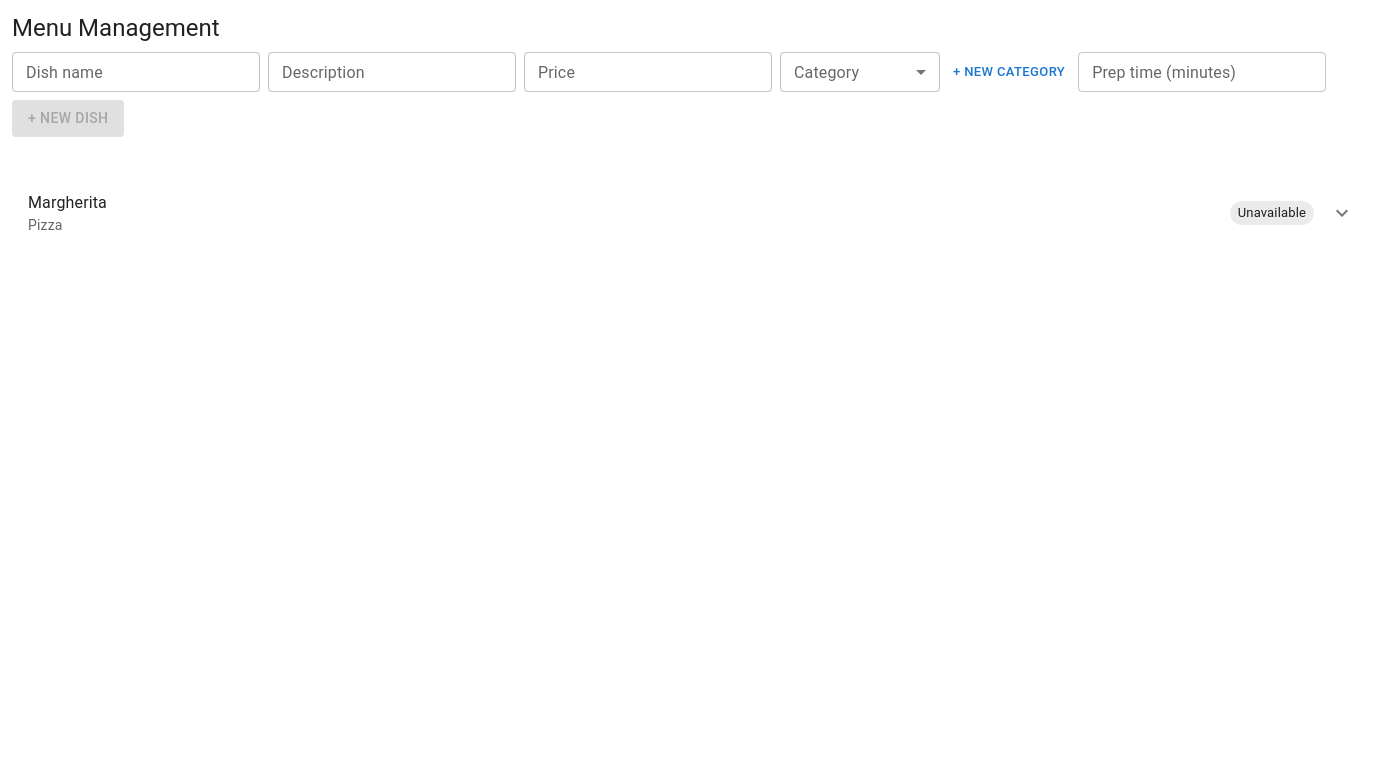
Test: MenuManagementPage › adding a dish's first recipe ingredient re-enables its availability toggle with no page reload
The width and height of the screenshot is (1378, 780).
Click the button named "Expand Margherita" at (1342, 213), box 1322,193 -> 1362,233
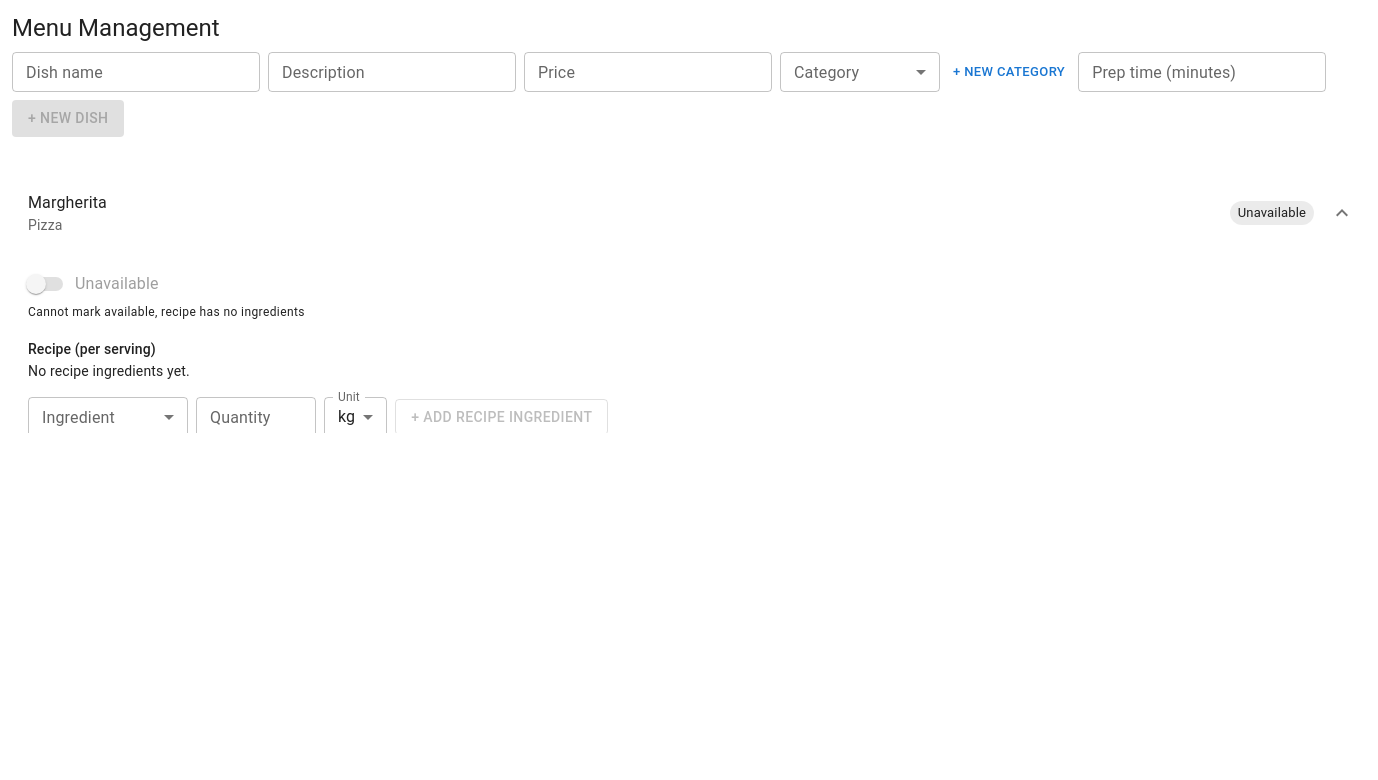
Now the switch labelled "Unavailable" is disabled, box 26,274 -> 159,294
Click the dropdown named "Ingredient" in the row of "Quantity" at (108, 417), box 28,397 -> 188,437
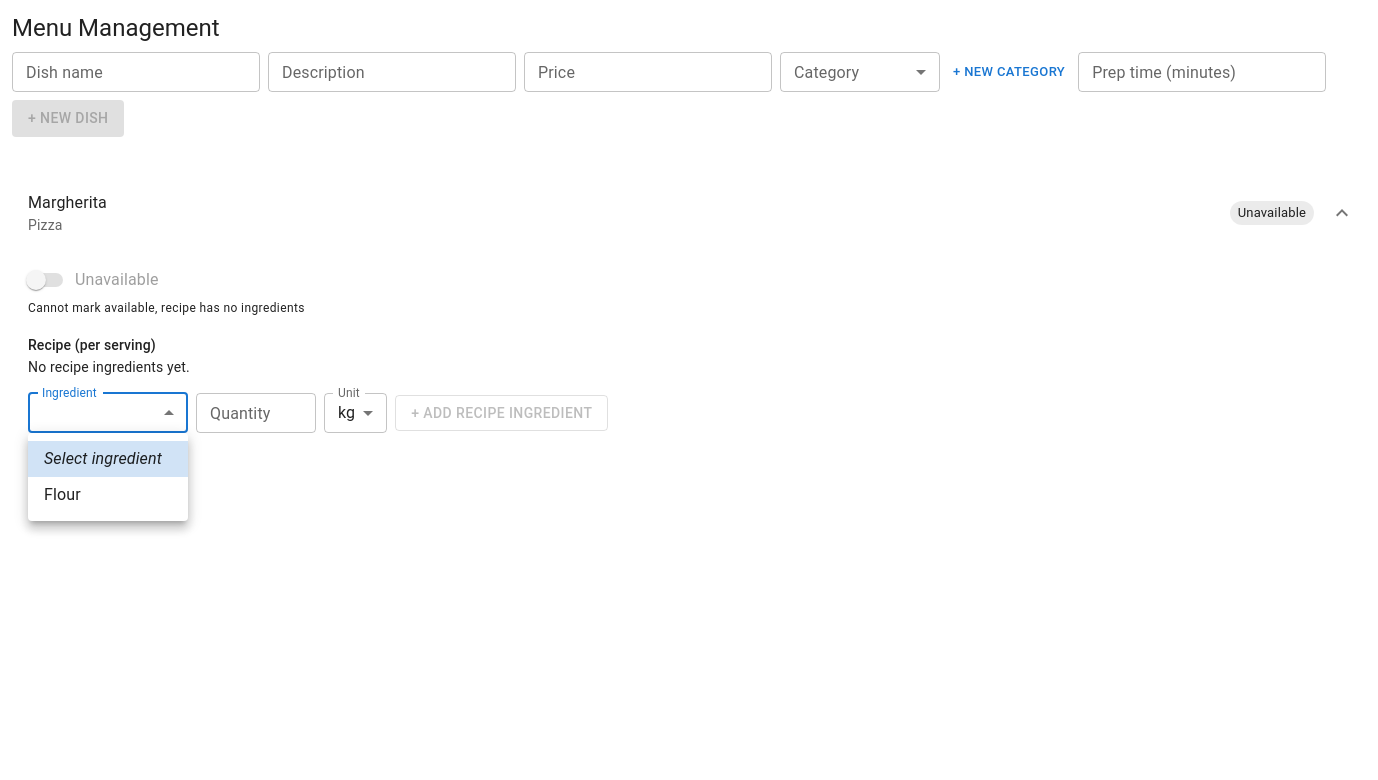
Click the option "Flour" at (62, 494), box 44,485 -> 81,504
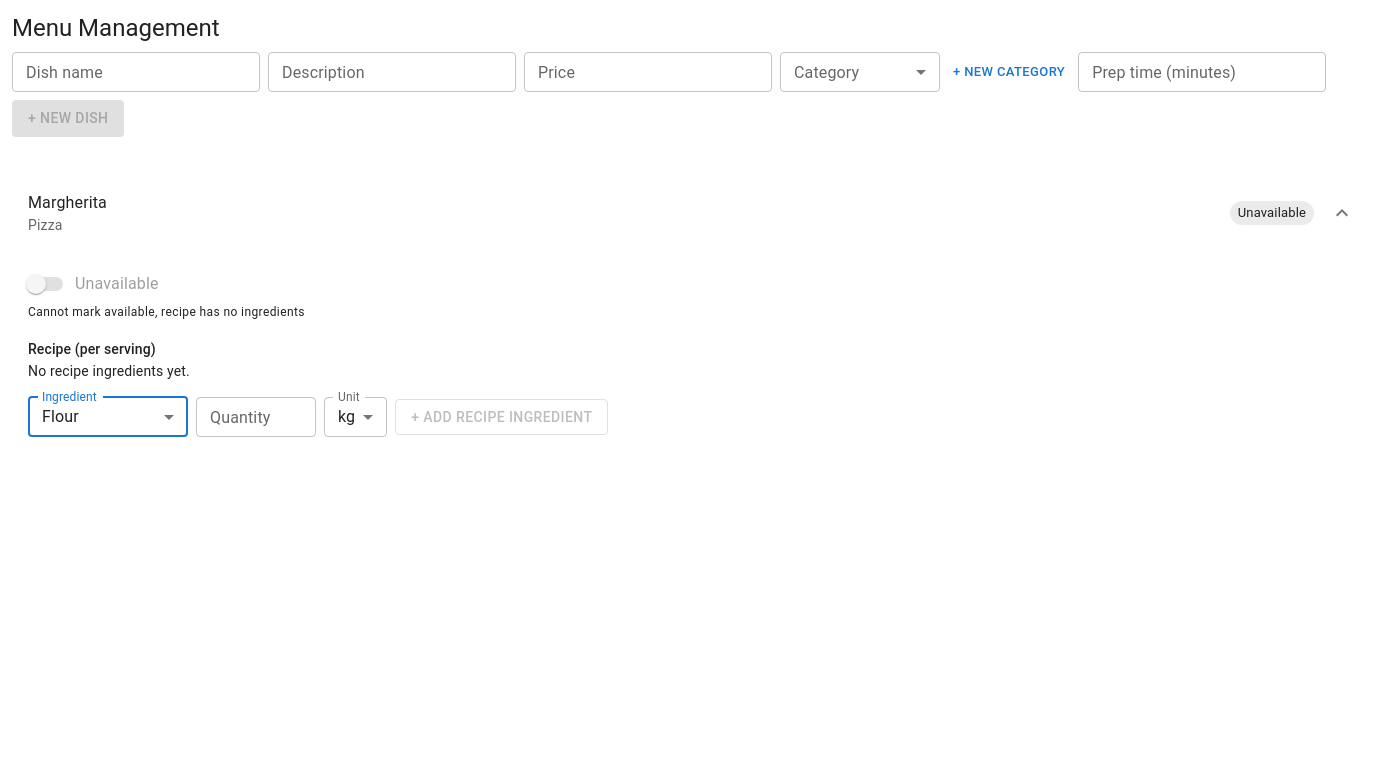
Type "0.3" into the field labelled "Quantity" at (256, 417), box 196,397 -> 316,437
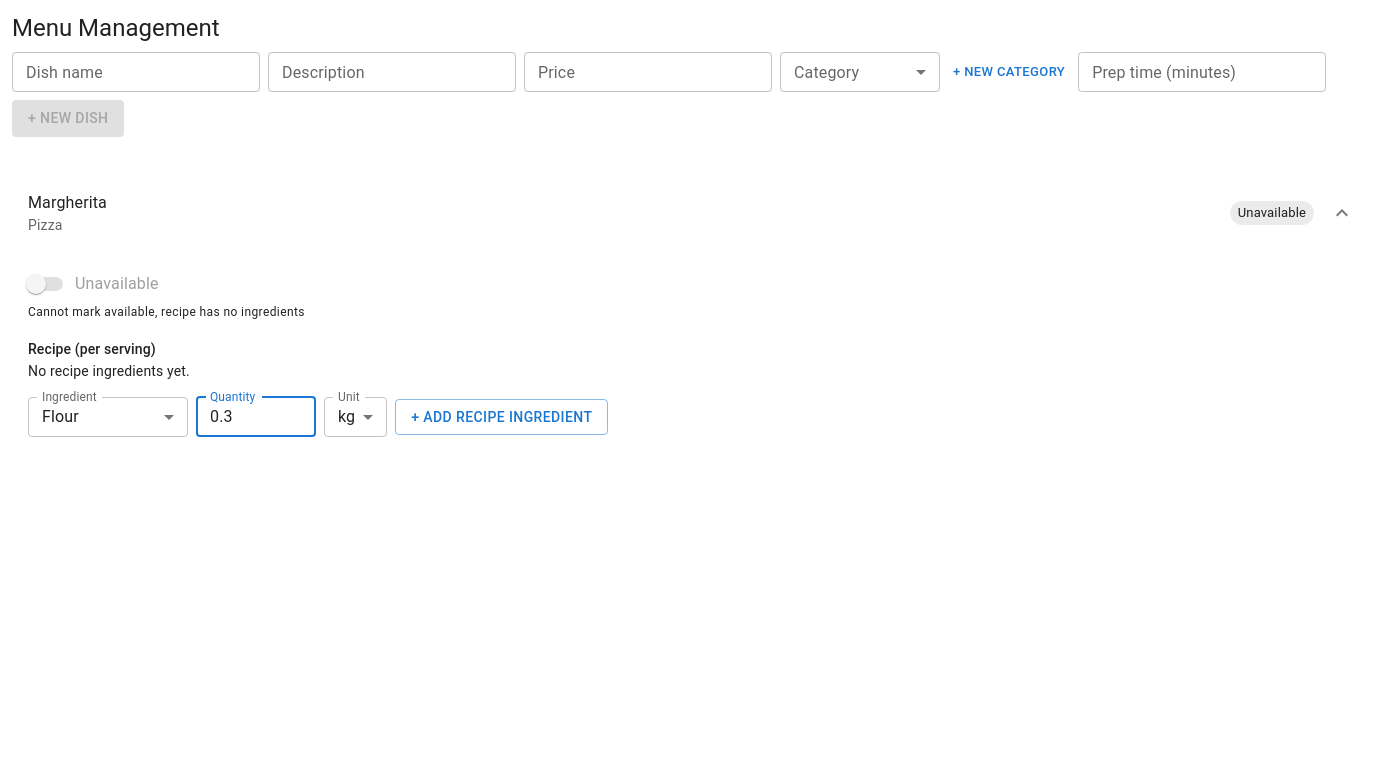
Click the button "+ Add recipe ingredient" at (502, 417), box 395,399 -> 608,435
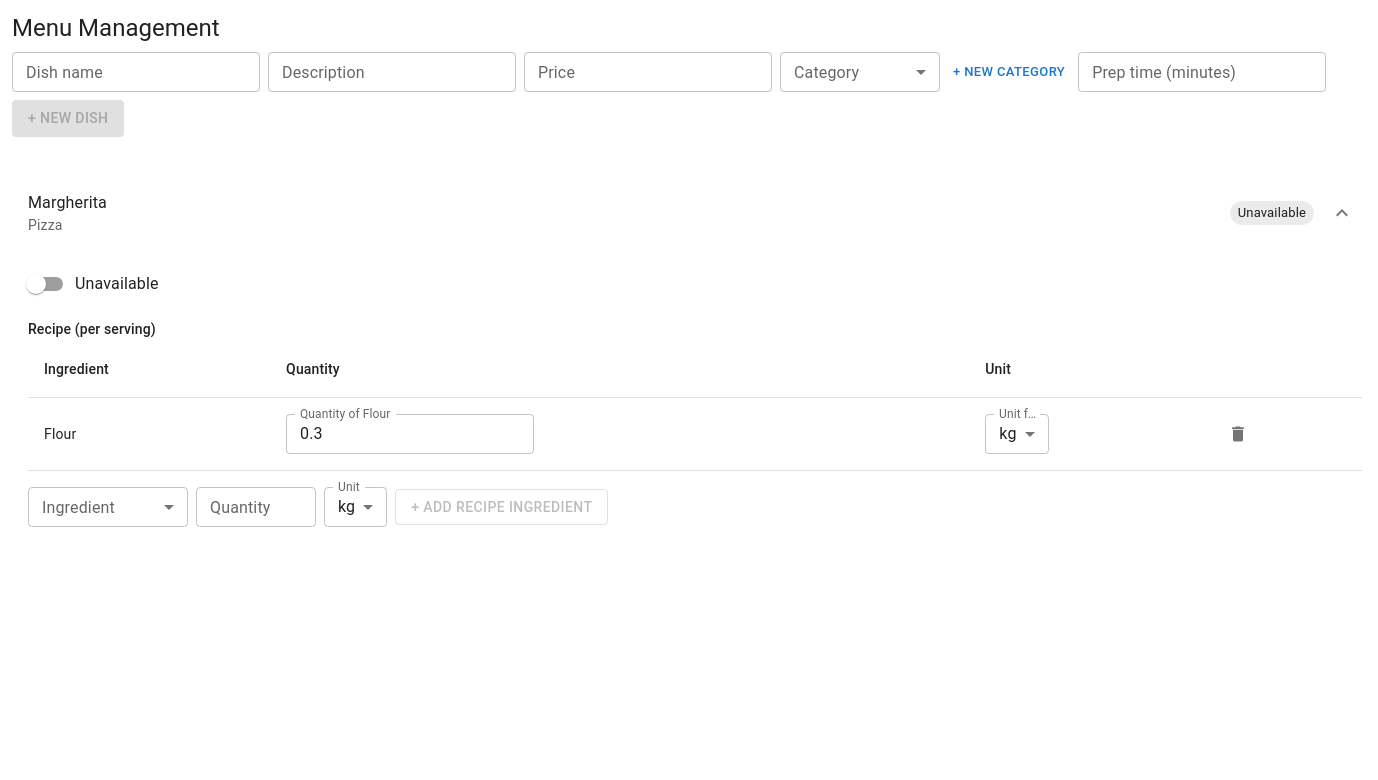
Now the switch labelled "Unavailable" is enabled, box 26,274 -> 159,294
